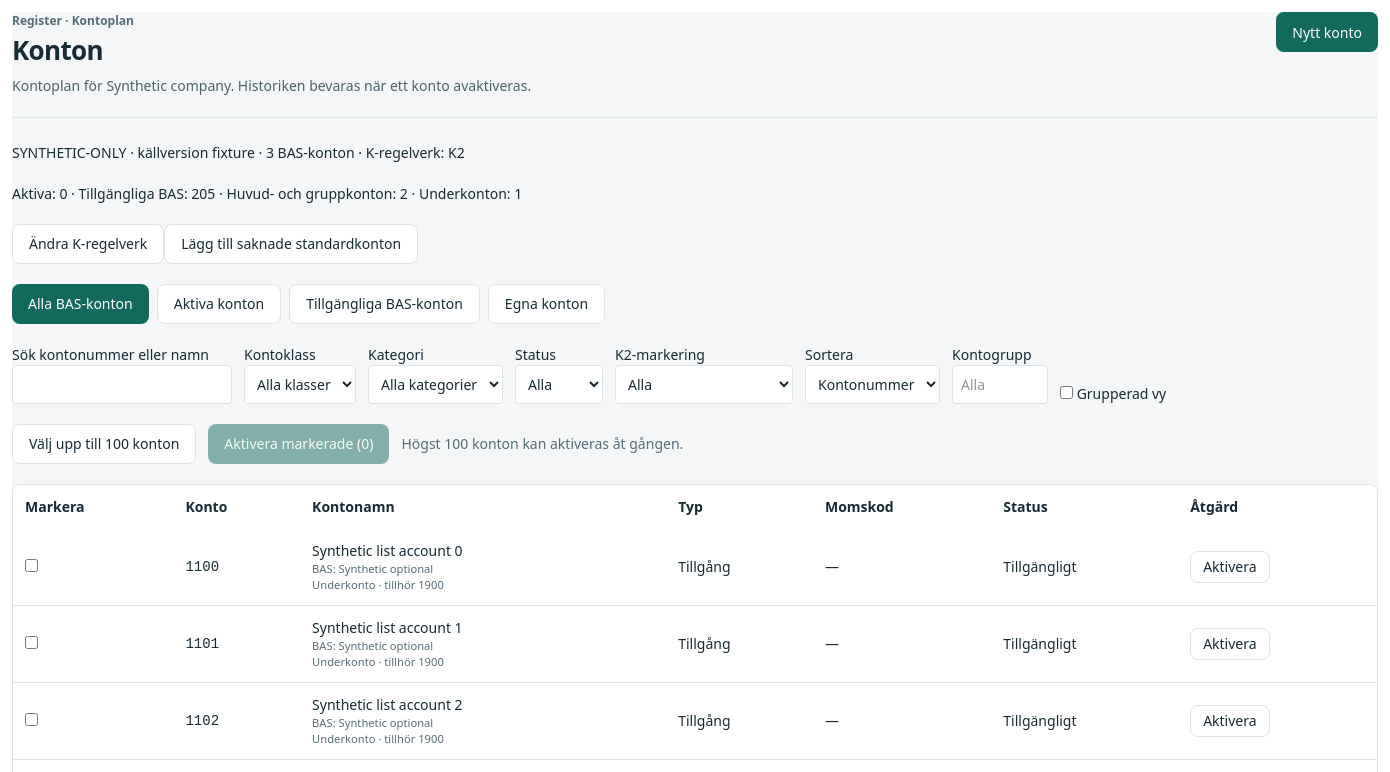
renders every batch in one list and keeps bulk selection within the API limit
This screenshot has width=1390, height=772.
Click the button "Välj upp till 100 konton": [104, 444] box left=12, top=424, right=196, bottom=464
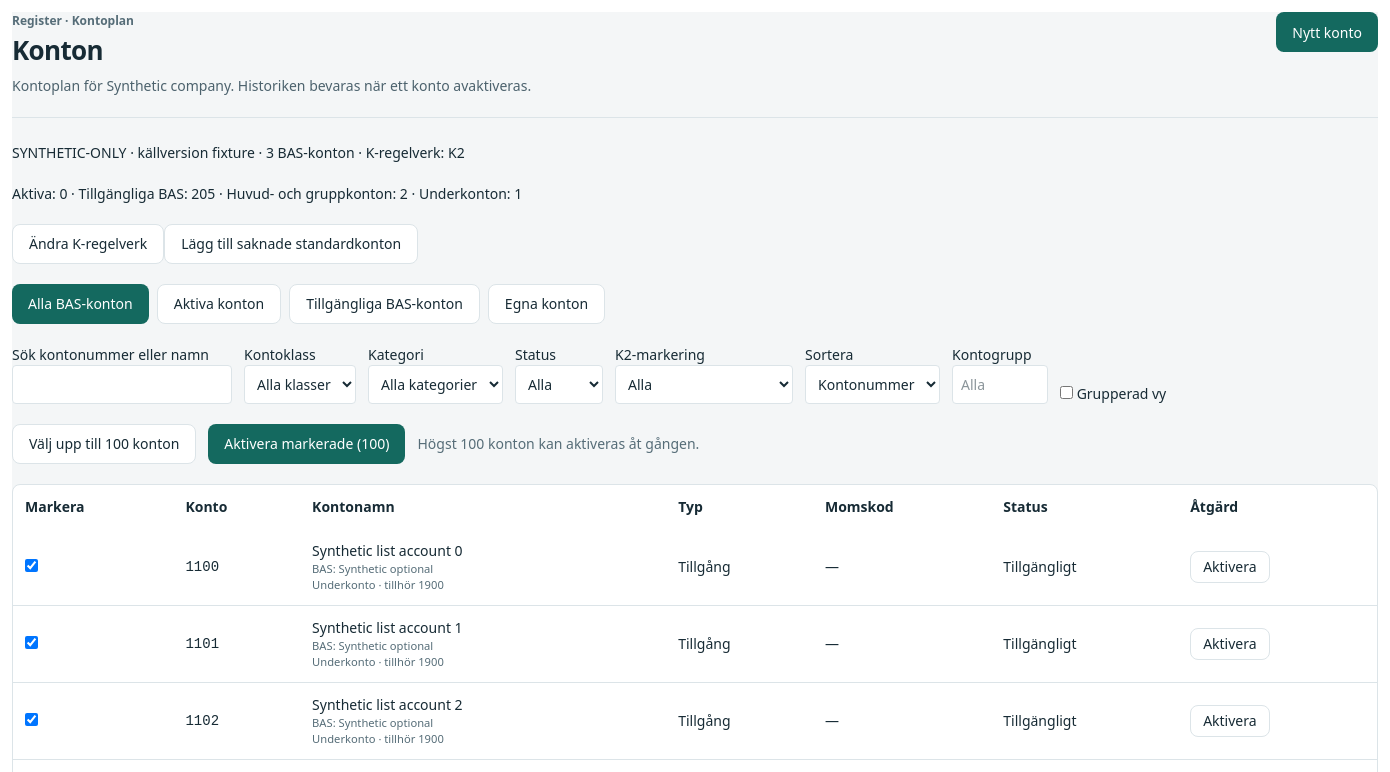
Check: the checkbox named "Markera konto 1100" is enabled, box left=25, top=559, right=38, bottom=572
Check: the button "Aktivera markerade (100)" is enabled, box left=208, top=424, right=405, bottom=464
